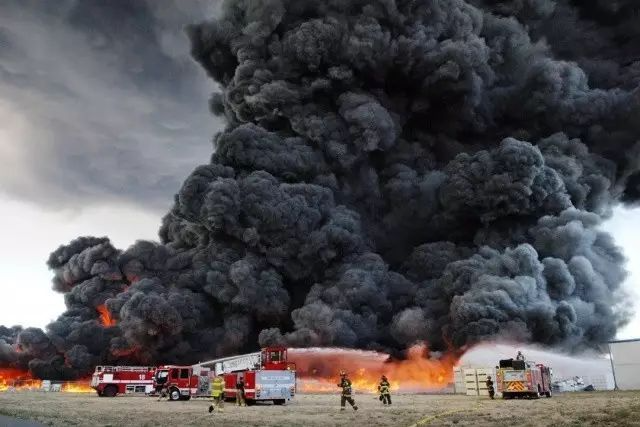喷灌水雾: (454, 338, 614, 390), (281, 345, 390, 373)
